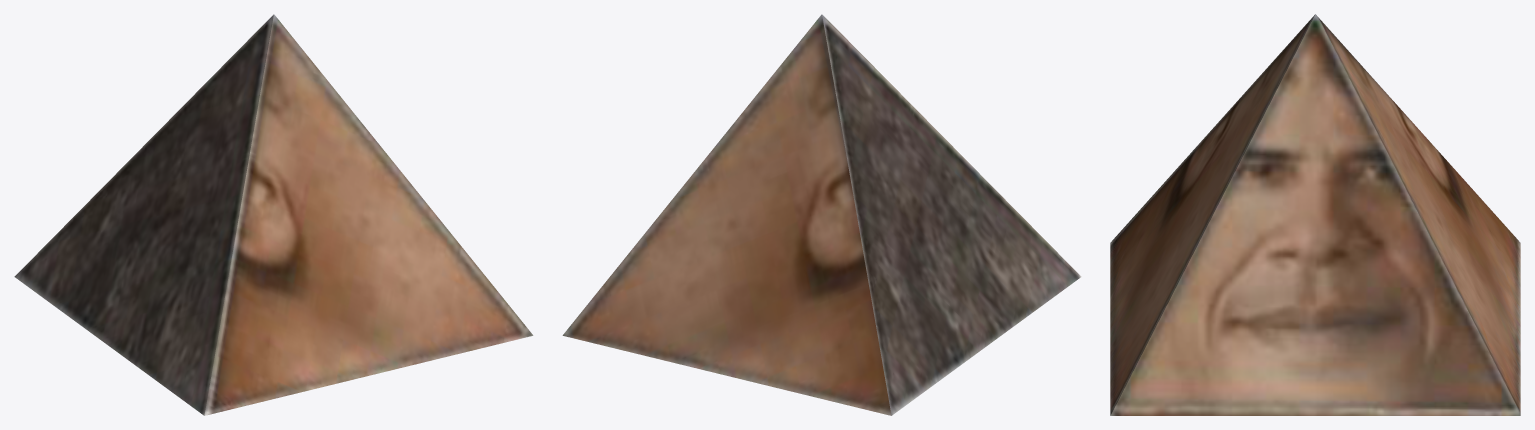
Rendered from obamiumExport.fbx.
3 views of the same model, side by side, from view 1: azimuth 30°, elevation 25°; view 2: azimuth 150°, elevation 25°; view 3: azimuth 270°, elevation 25° (orthographic). The views are drawn at different scales.
Parts seen in each view (by area): view 1: Cone; view 2: Cone; view 3: Cone.
Part boxes in pixels (x1,y1,x2,y2): Cone: (14,14,533,415); Cone: (562,14,1081,415); Cone: (1110,14,1520,415).
Size of the model in its own units: 141 by 120 by 141.
Materials: 1 (1 with a texture image).
